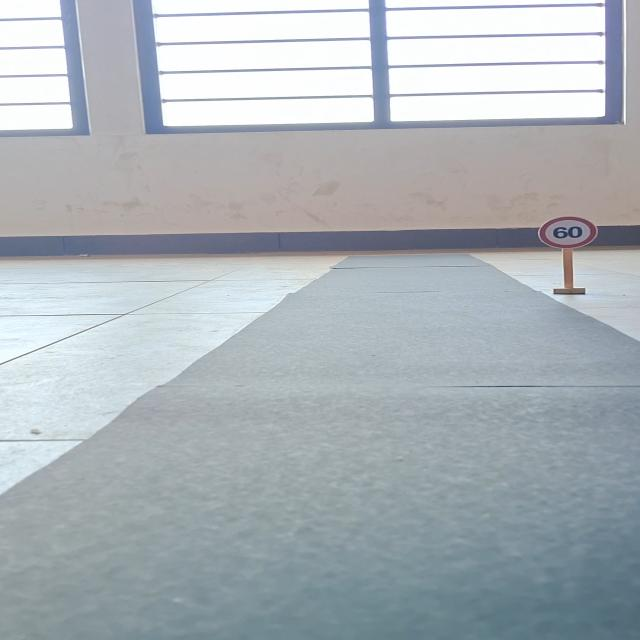Speed60: (540, 215, 598, 250)
